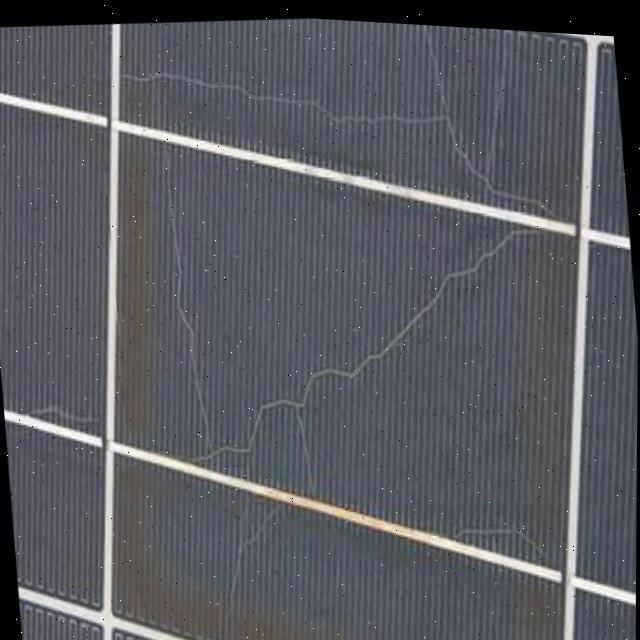Anomaly Solar Panel: (0, 14, 638, 640)
Structural Damage: (117, 148, 540, 520), (97, 5, 546, 226), (201, 488, 277, 602), (449, 519, 549, 548), (26, 405, 97, 423)
